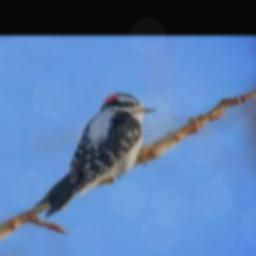Woodpecker: (35, 93, 157, 217)
